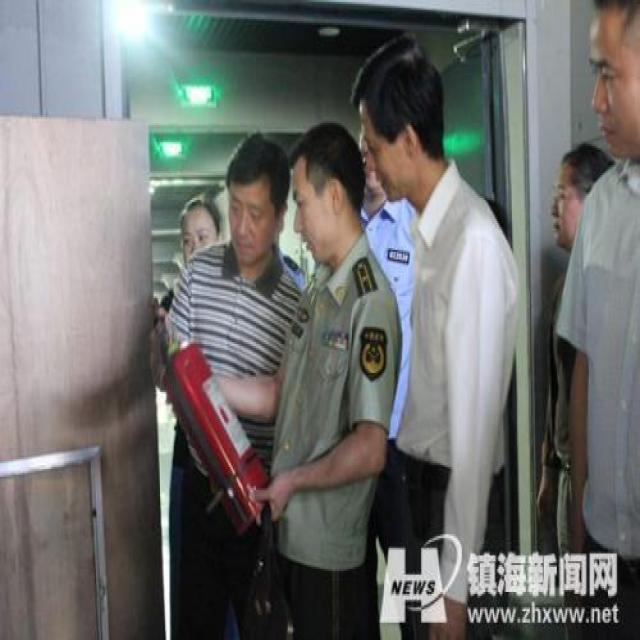no_gloves: (255, 472, 292, 518)
no_hardhat: (359, 45, 440, 198), (294, 126, 358, 260), (226, 147, 290, 266), (593, 0, 640, 156), (554, 139, 608, 250), (184, 200, 218, 281)
no_vest: (404, 190, 502, 459), (291, 270, 371, 568), (582, 167, 640, 538), (200, 249, 294, 374)
person: (179, 128, 403, 640), (355, 46, 520, 640), (161, 134, 315, 640), (540, 0, 640, 640)
